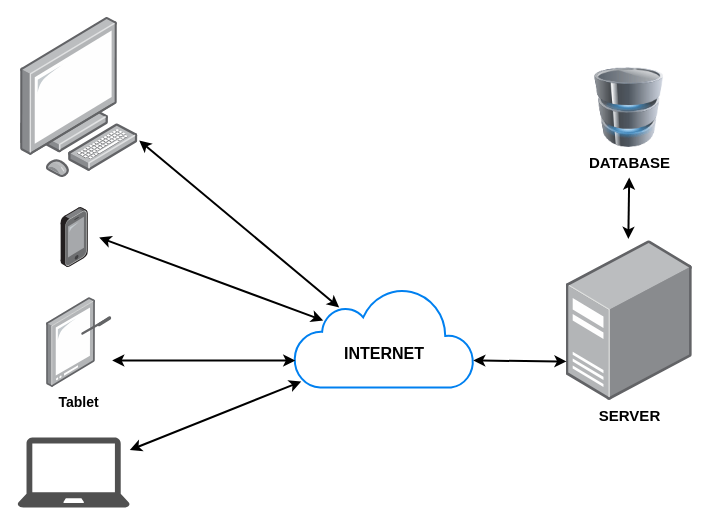
The diagram is 709 pixels wide and 524 high, and some of its shapes have lost their labels. The centre of each missing label's shape, as x and y in pixels:
PC: pixel 78 97
SmartPhone: pixel 73 237
